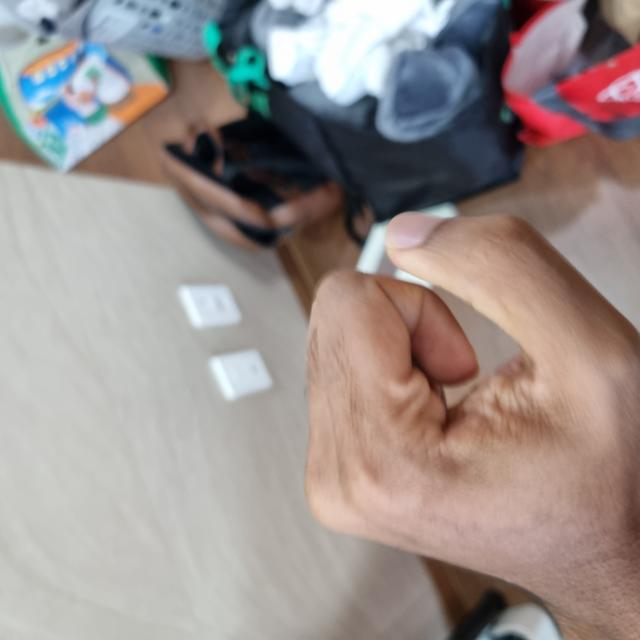Rock: (1, 299, 427, 638)
